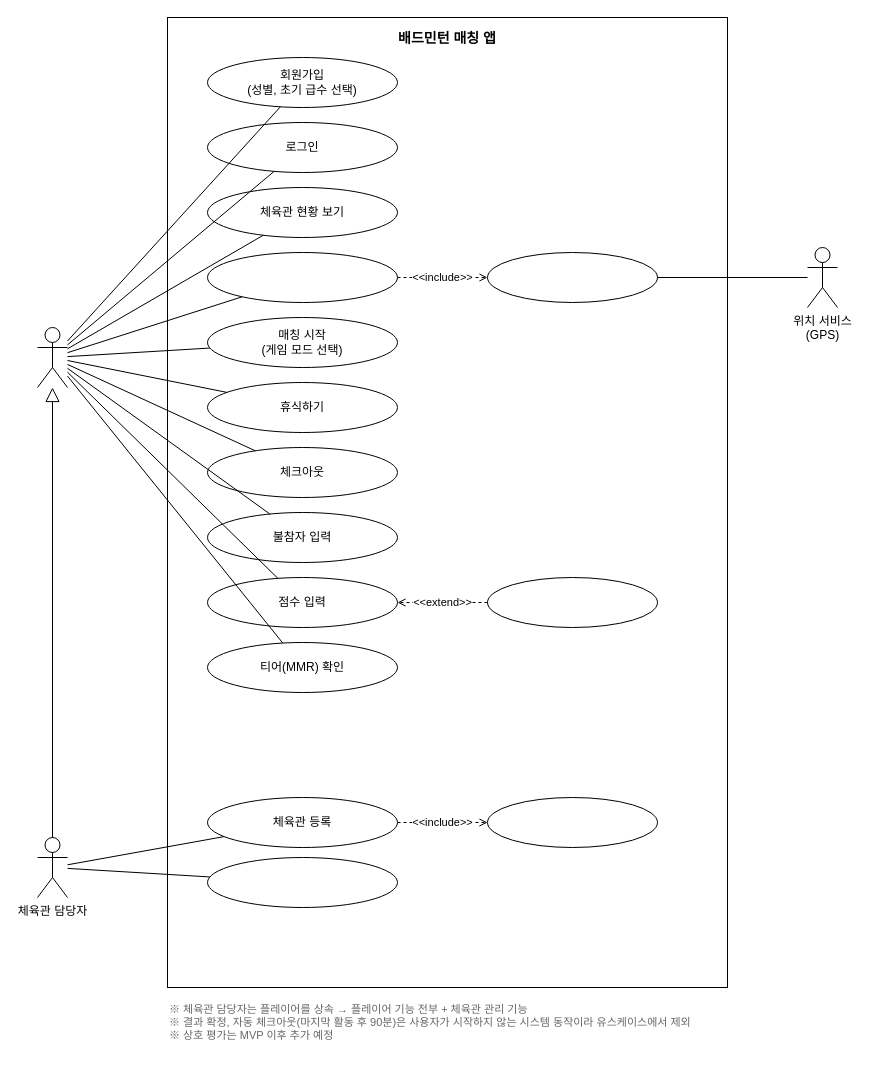
The diagram is 869 pixels wide and 1065 high, and some of its shapes have lost their labels. Here are the shapes that lost their labels. From the top down, the centre of each, then its label:
the point at 302,277: 체크인
the point at 572,277: 위치 인증
the point at 52,357: 플레이어
the point at 572,602: 점수 수정 (불일치 시)
the point at 572,822: 중복 체육관 확인
the point at 302,882: 체육관 정보 수정
